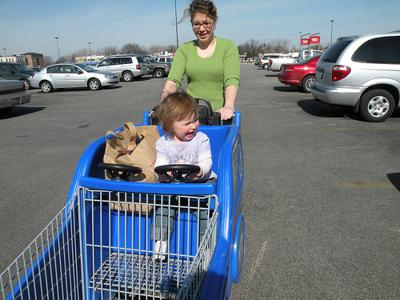person: (158, 2, 242, 121)
